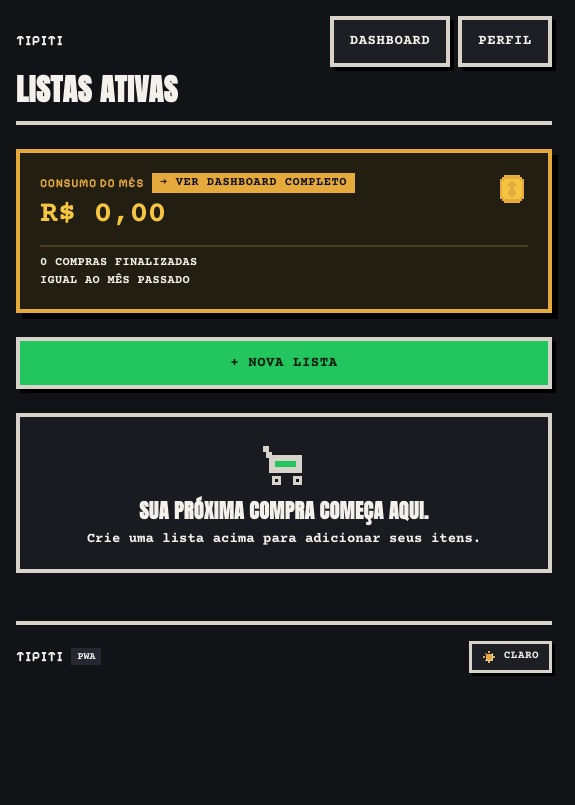
Scenario: HomePage › requires a list name before creating it
The width and height of the screenshot is (575, 805).
Step 1. Click the button "+ Nova lista" → (284, 363), box [16, 337, 552, 389]
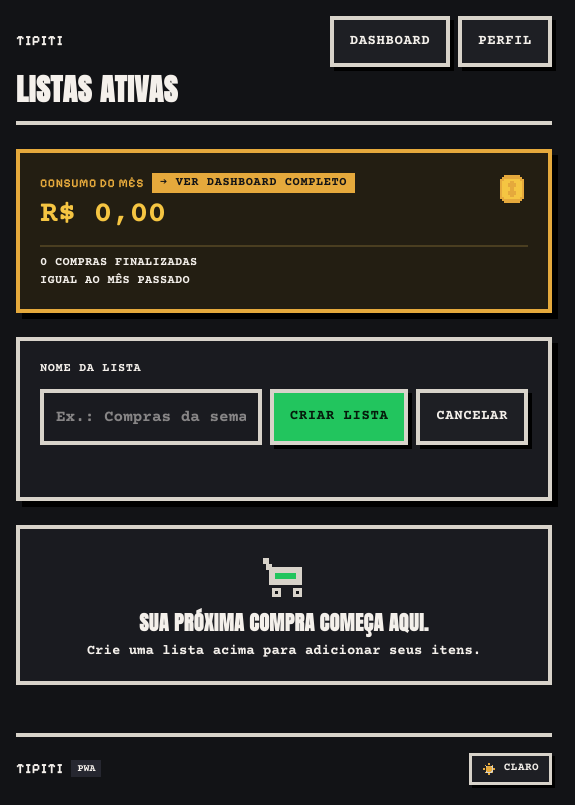
Step 2. Click the button "Criar lista" → (339, 417), box [270, 389, 408, 445]
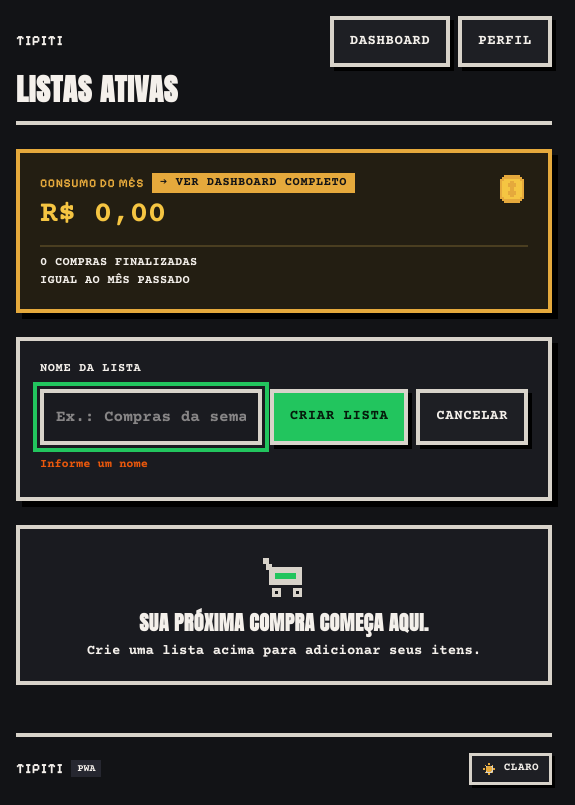
Result: the text "Informe um nome" is shown at [40, 458, 148, 471]
